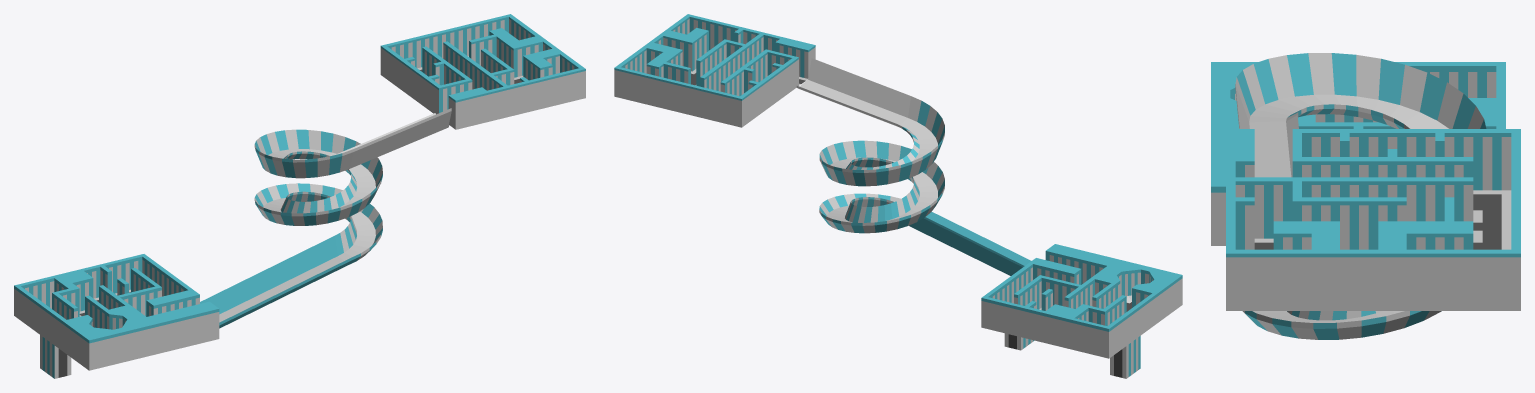
File: levelobj10.fbx
3 views of the same model, side by side, from view 1: azimuth 30°, elevation 25°; view 2: azimuth 150°, elevation 25°; view 3: azimuth 270°, elevation 25° (orthographic). The views are drawn at different scales.
Parts seen in each view (by area): view 1: Cube, Plane.001, Plane; view 2: Cube, Plane.001, Plane; view 3: Plane, Cube, Plane.001.
Boxes of the visible parts, x1,y1,x2,y2 form: Cube: [200, 108, 451, 328]; Plane.001: [14, 254, 219, 378]; Plane: [380, 14, 585, 129]; Cube: [796, 58, 1031, 275]; Plane.001: [981, 244, 1182, 378]; Plane: [614, 14, 815, 127]; Plane: [1226, 129, 1520, 310]; Cube: [1235, 53, 1486, 339]; Plane.001: [1211, 62, 1505, 245].
Bounding box in the file's own units: 6156 × 2522 × 1681.
